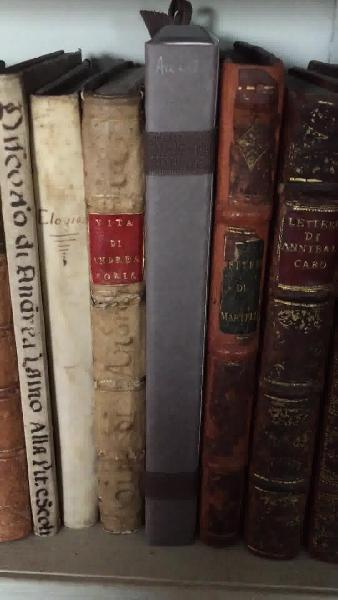Aa6-25: (24, 88, 99, 548)
Aa6-26: (76, 89, 154, 532)
Aa6-27: (136, 33, 210, 550)
Aa6-28: (198, 30, 281, 569)
Aa6-29: (241, 44, 336, 553)
